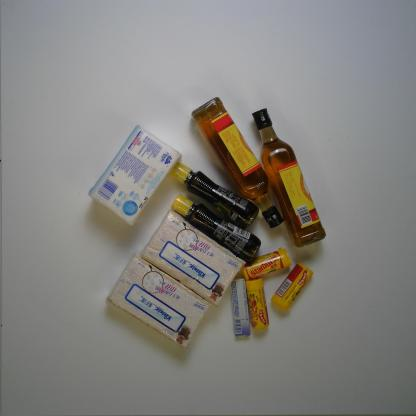Candy: (269, 260, 315, 312), (240, 245, 294, 282), (228, 274, 252, 340), (243, 277, 271, 331)
Seasoner: (189, 95, 286, 230), (250, 106, 328, 250), (167, 160, 261, 233), (168, 192, 262, 262)
Tissue: (103, 250, 214, 350), (138, 208, 247, 309), (85, 122, 183, 228)
